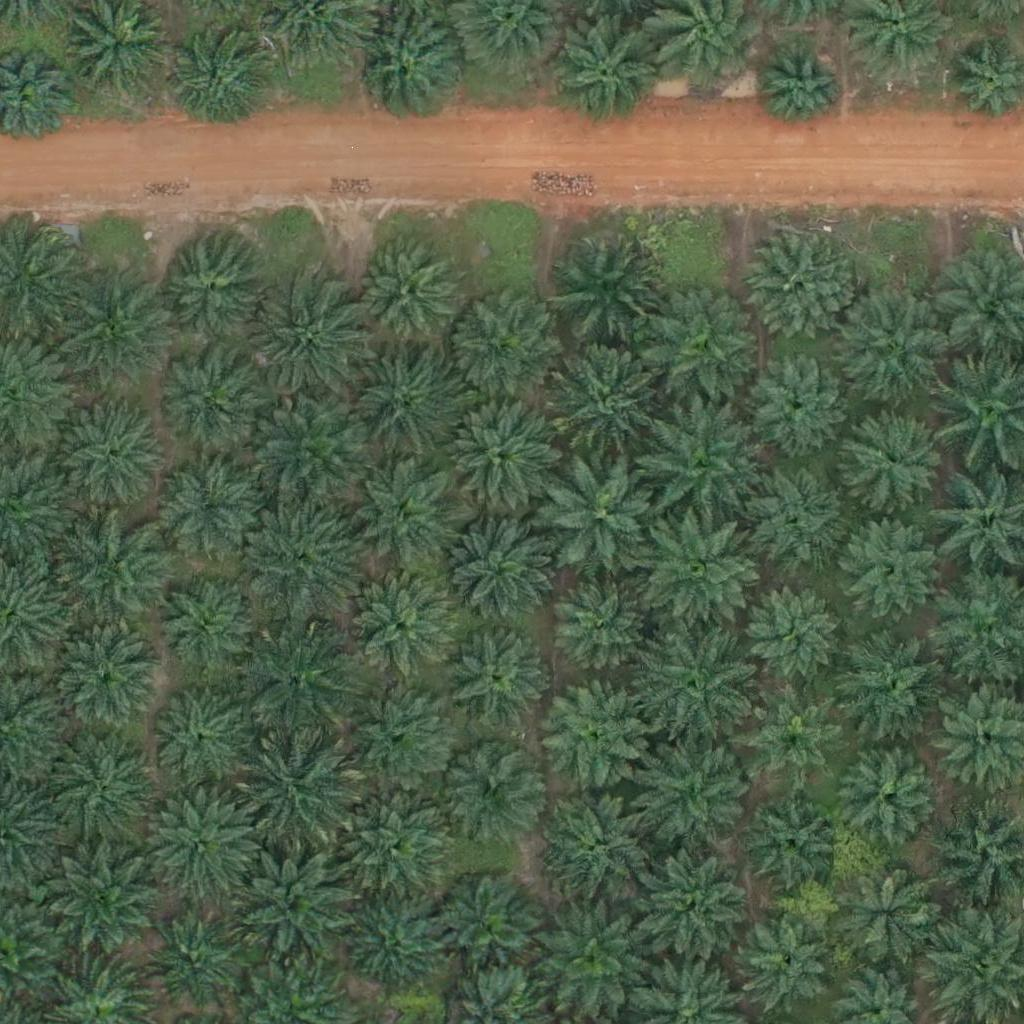Kelapa_Sawit: (647, 511, 760, 625), (544, 455, 657, 569), (352, 460, 465, 574), (239, 853, 352, 967), (45, 621, 158, 735), (835, 626, 948, 739), (744, 233, 857, 346), (642, 294, 755, 407), (534, 902, 647, 1015), (541, 786, 654, 899), (533, 675, 646, 788), (445, 290, 558, 403), (446, 394, 559, 507), (439, 626, 552, 739), (434, 734, 547, 847), (431, 868, 544, 981), (332, 792, 445, 905), (343, 349, 456, 462), (257, 395, 370, 508), (237, 499, 350, 612), (155, 342, 268, 455), (48, 278, 161, 391), (49, 399, 162, 512), (42, 739, 155, 852), (547, 17, 660, 130), (841, 290, 953, 404), (642, 740, 754, 854), (350, 568, 462, 682), (153, 232, 265, 346), (45, 846, 157, 960), (735, 461, 847, 574), (645, 409, 757, 522), (641, 629, 753, 742), (638, 846, 750, 959), (554, 230, 666, 343), (547, 341, 659, 454), (440, 519, 552, 632), (343, 680, 455, 793), (251, 283, 363, 396), (244, 623, 356, 736), (245, 736, 357, 849), (146, 789, 258, 902), (64, 511, 176, 624), (350, 11, 462, 124), (843, 406, 943, 507), (843, 752, 943, 853), (839, 863, 939, 964), (746, 787, 846, 888), (740, 579, 840, 680), (745, 347, 845, 448), (346, 901, 446, 1002), (353, 243, 453, 344), (148, 914, 248, 1015), (148, 681, 248, 782), (161, 465, 261, 566), (167, 33, 267, 134), (842, 517, 942, 617), (739, 911, 839, 1011), (745, 686, 845, 786), (549, 575, 649, 675), (155, 580, 255, 680), (757, 44, 844, 132)
